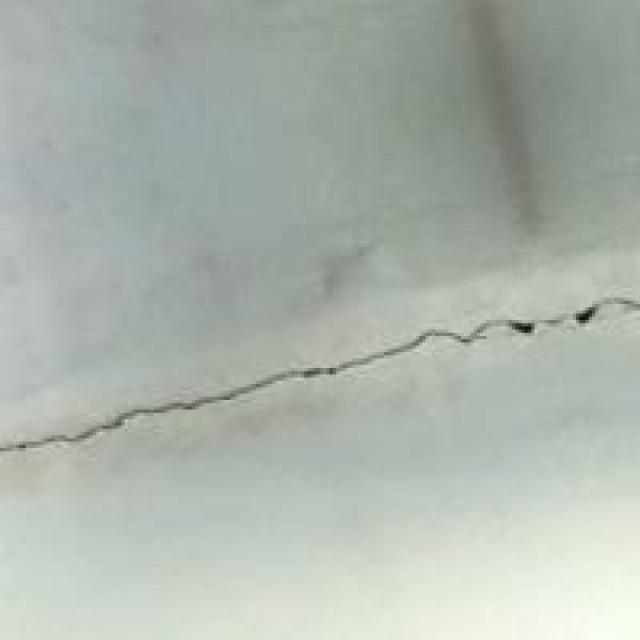crack: (0, 278, 637, 516)
